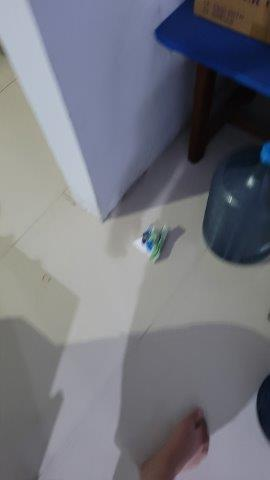kertas: (129, 224, 170, 264)
